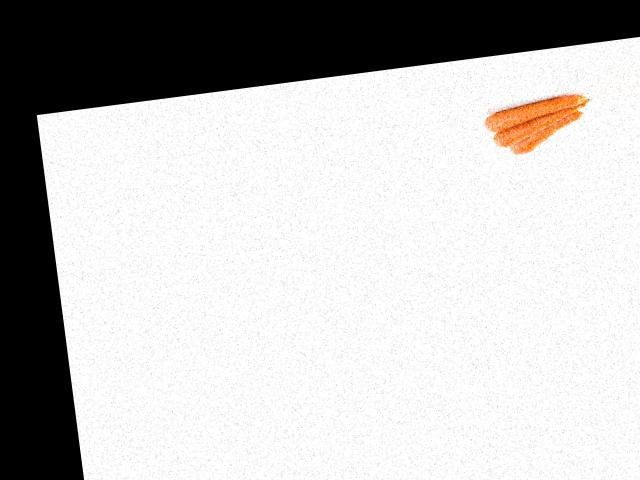carrot: (478, 88, 588, 133)
